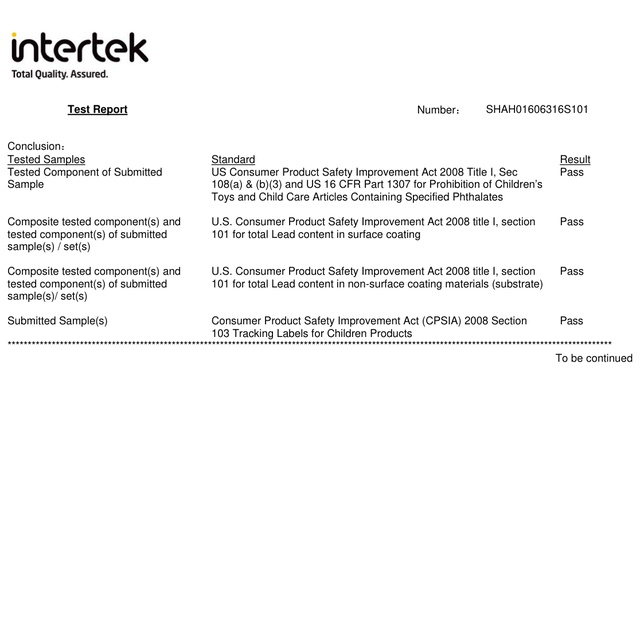intertek: (7, 27, 155, 72)
